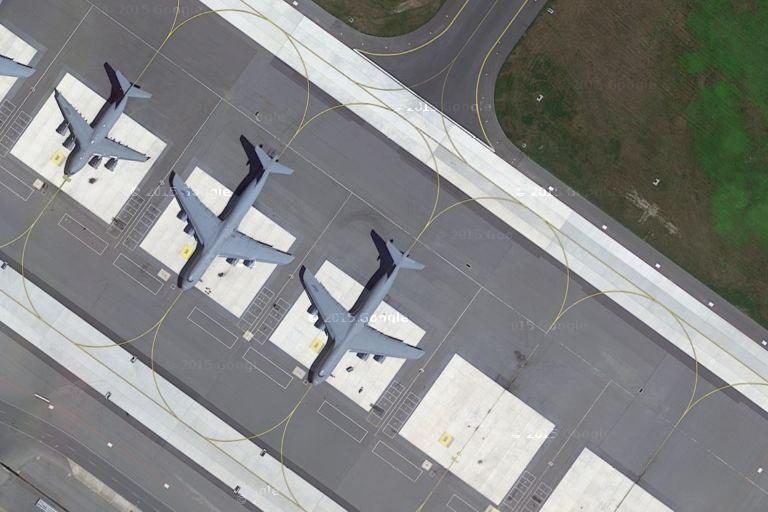C-17: (48, 66, 157, 180)
KC-135: (161, 135, 299, 293), (298, 234, 431, 387)
